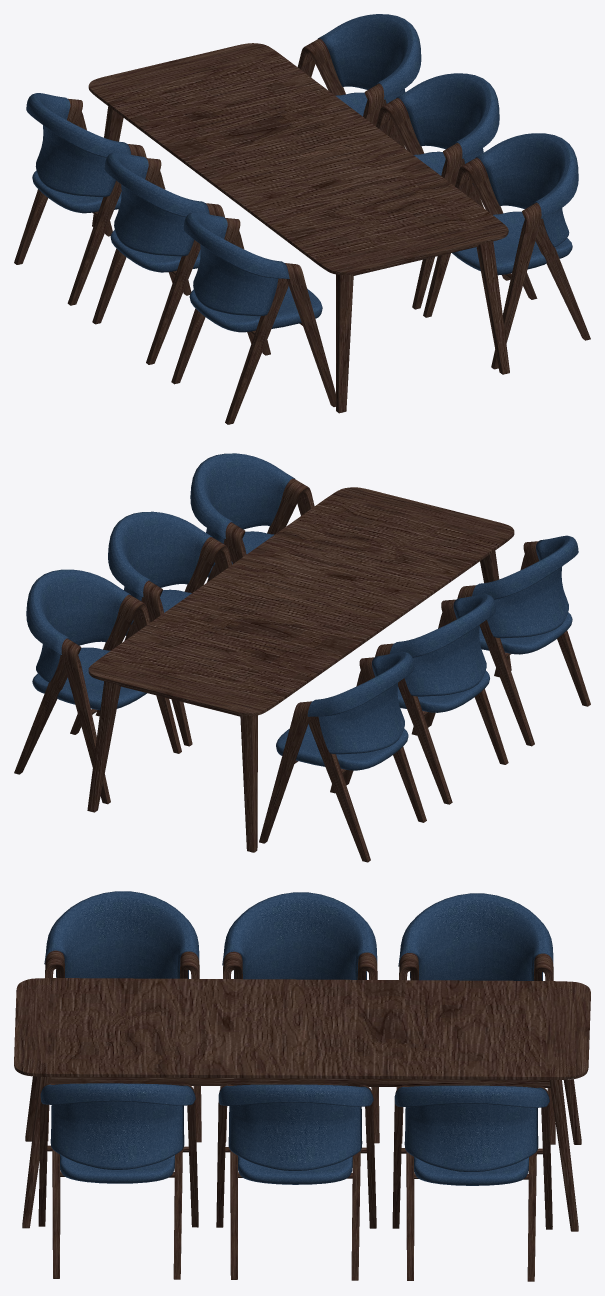
Rendered from six_chair_set_01.glb.
The picture shows the model from 3 angles, top to bottom: view 1: azimuth 30°, elevation 25°; view 2: azimuth 150°, elevation 25°; view 3: azimuth 270°, elevation 25°; orthographic projection. The views are drawn at different scales.
Visible parts, largest first — view 1: table5_polySurface68, table_set_03_CHAIR1_polySurface74, table_set_03_CHAIR3_polySurface79, table_set_03_CHAIR2_polySurface76, table_set_03_CHAIR5_polySurface76, table_set_03_CHAIR_polySurface79, table_set_03_CHAIR4_polySurface79; view 2: table5_polySurface68, table_set_03_CHAIR4_polySurface79, table_set_03_CHAIR5_polySurface76, table_set_03_CHAIR3_polySurface79, table_set_03_CHAIR2_polySurface76, table_set_03_CHAIR_polySurface79, table_set_03_CHAIR1_polySurface74; view 3: table5_polySurface68, table_set_03_CHAIR1_polySurface74, table_set_03_CHAIR4_polySurface79, table_set_03_CHAIR_polySurface79, table_set_03_CHAIR2_polySurface76, table_set_03_CHAIR3_polySurface79, table_set_03_CHAIR5_polySurface76.
Part boxes in pixels (x1,y1,x2,y2): table5_polySurface68: [88, 43, 509, 413]; table_set_03_CHAIR1_polySurface74: [423, 133, 590, 369]; table_set_03_CHAIR3_polySurface79: [171, 212, 335, 424]; table_set_03_CHAIR2_polySurface76: [92, 152, 254, 364]; table_set_03_CHAIR5_polySurface76: [14, 93, 174, 305]; table_set_03_CHAIR_polySurface79: [376, 73, 510, 309]; table_set_03_CHAIR4_polySurface79: [297, 14, 421, 148]; table5_polySurface68: [87, 487, 514, 852]; table_set_03_CHAIR4_polySurface79: [14, 569, 181, 804]; table_set_03_CHAIR5_polySurface76: [259, 652, 426, 862]; table_set_03_CHAIR3_polySurface79: [425, 535, 590, 746]; table_set_03_CHAIR2_polySurface76: [343, 594, 508, 804]; table_set_03_CHAIR_polySurface79: [95, 511, 232, 746]; table_set_03_CHAIR1_polySurface74: [190, 453, 314, 582]; table5_polySurface68: [14, 978, 590, 1231]; table_set_03_CHAIR1_polySurface74: [38, 1083, 198, 1279]; table_set_03_CHAIR4_polySurface79: [392, 1085, 552, 1281]; table_set_03_CHAIR_polySurface79: [216, 1084, 376, 1280]; table_set_03_CHAIR2_polySurface76: [220, 892, 379, 1143]; table_set_03_CHAIR3_polySurface79: [44, 891, 201, 1142]; table_set_03_CHAIR5_polySurface76: [396, 893, 555, 1144].
Bounding box in the file's own units: 2.1 × 0.9537 × 2.55.
2 materials, 2 textured.
